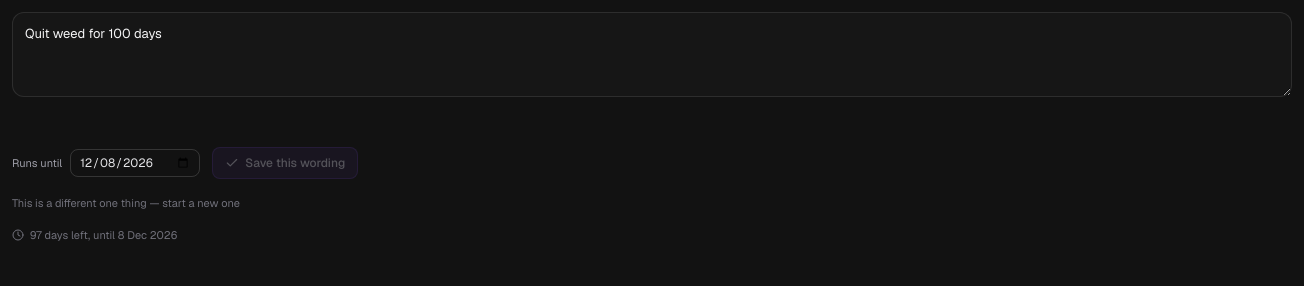
the deadline is editable on its own › refuses a date that is not on the calendar, in words, rather than at the server
Clear the date field with test id "one-thing-due" at (135, 163), box [70, 149, 200, 177]
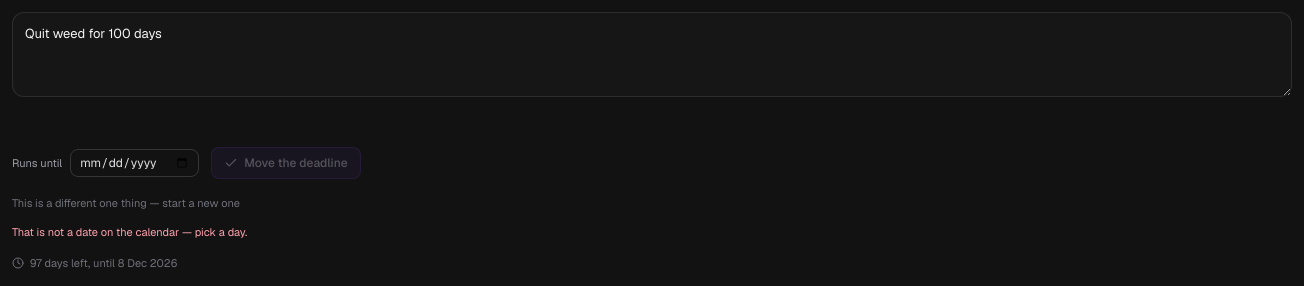
Expected: the button with test id "one-thing-save" is disabled, [211, 147, 361, 179]
Now the text "That is not a date on the calendar — pick a day." is shown, box [12, 225, 247, 239]
